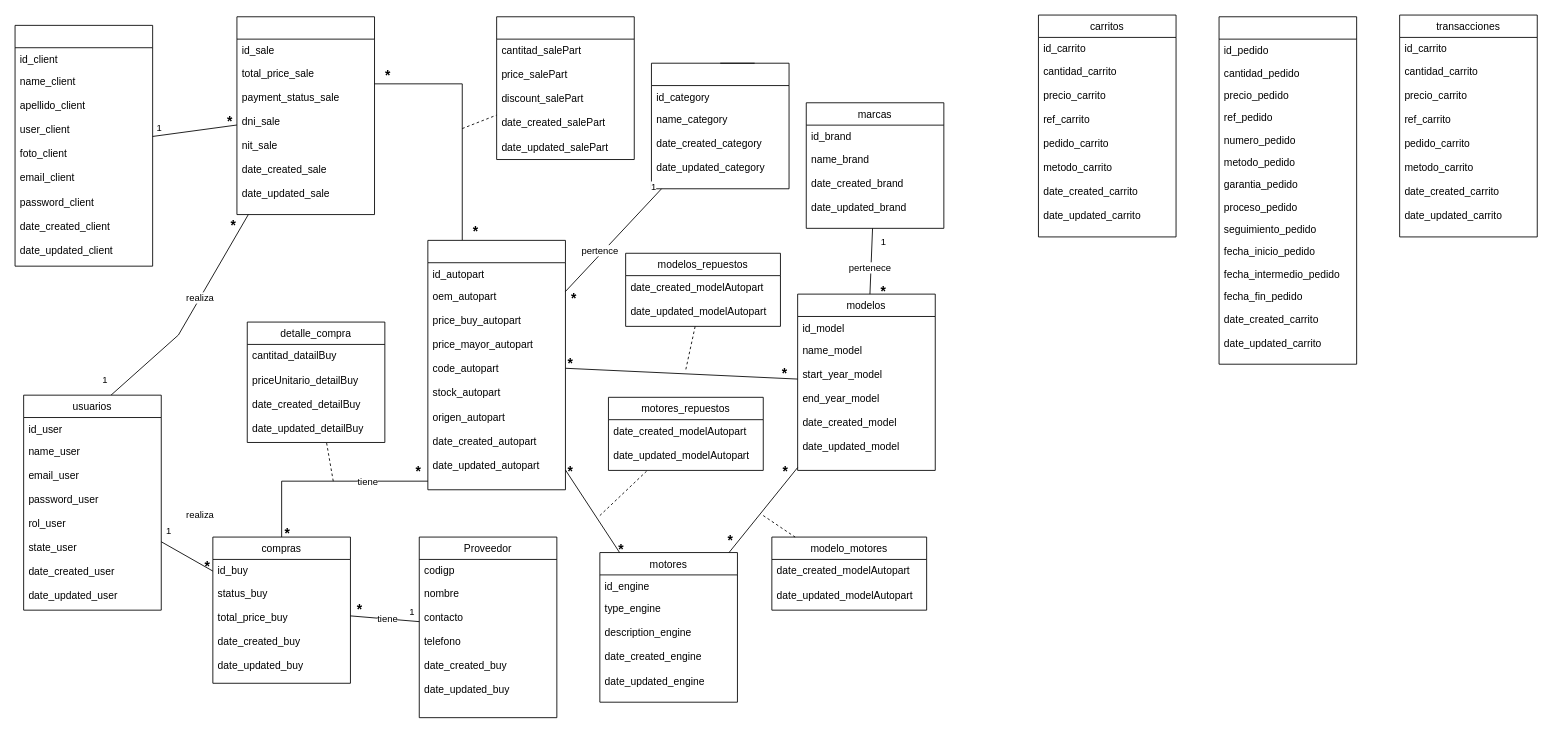
The diagram is 1552 pixels wide and 733 high, and some of its shapes have lost their labels. The shapes that lost their labels are listed below. From the top down, each one's box as (x1, y1, x2, y2) in pixels, then its label:
(496, 16, 634, 160): detalle_venta
(236, 16, 375, 215): ventas
(651, 62, 789, 189): categories
(14, 25, 153, 266): clientes
(1218, 16, 1357, 364): pedidos
(427, 240, 565, 490): repuestos
